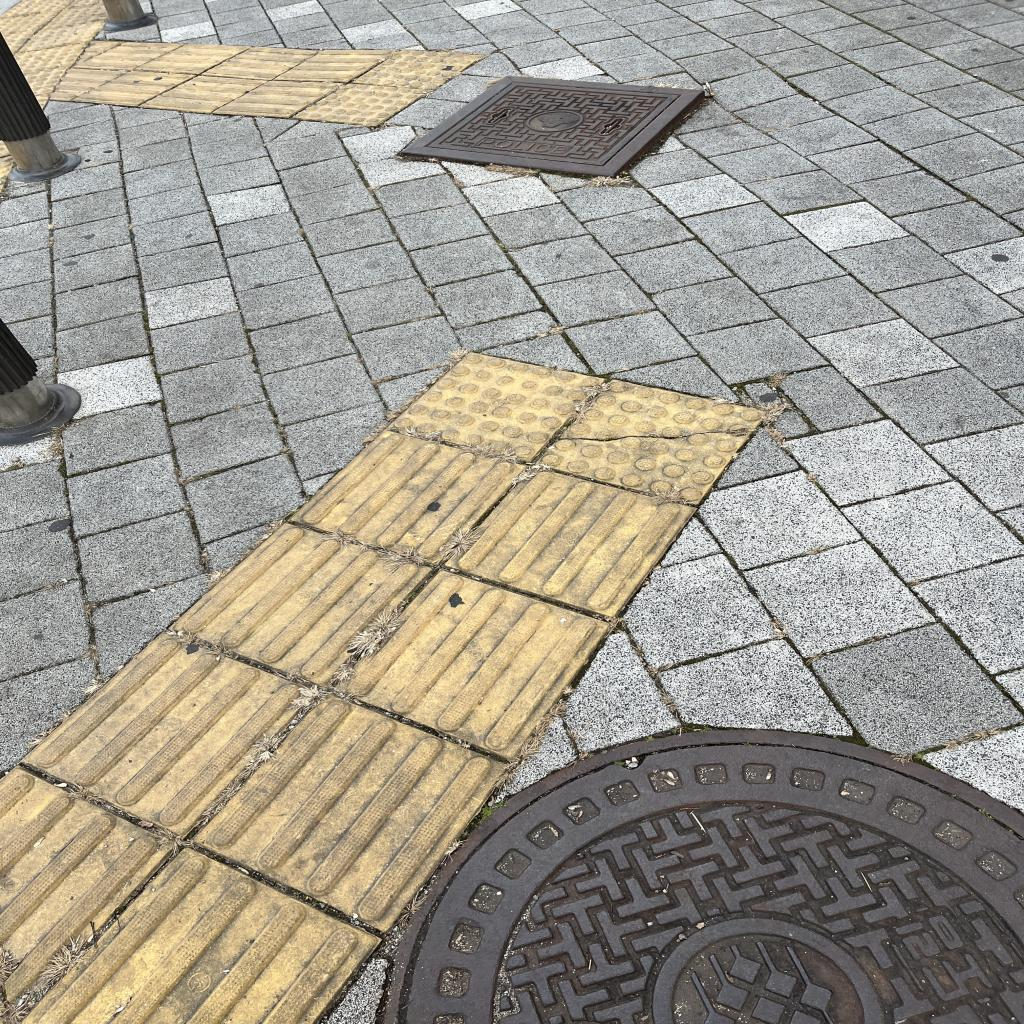Stop block broken: (535, 368, 765, 514)
Stop block normal: (387, 340, 605, 471)
Straight block normal: (190, 641, 507, 967), (168, 500, 431, 705)
